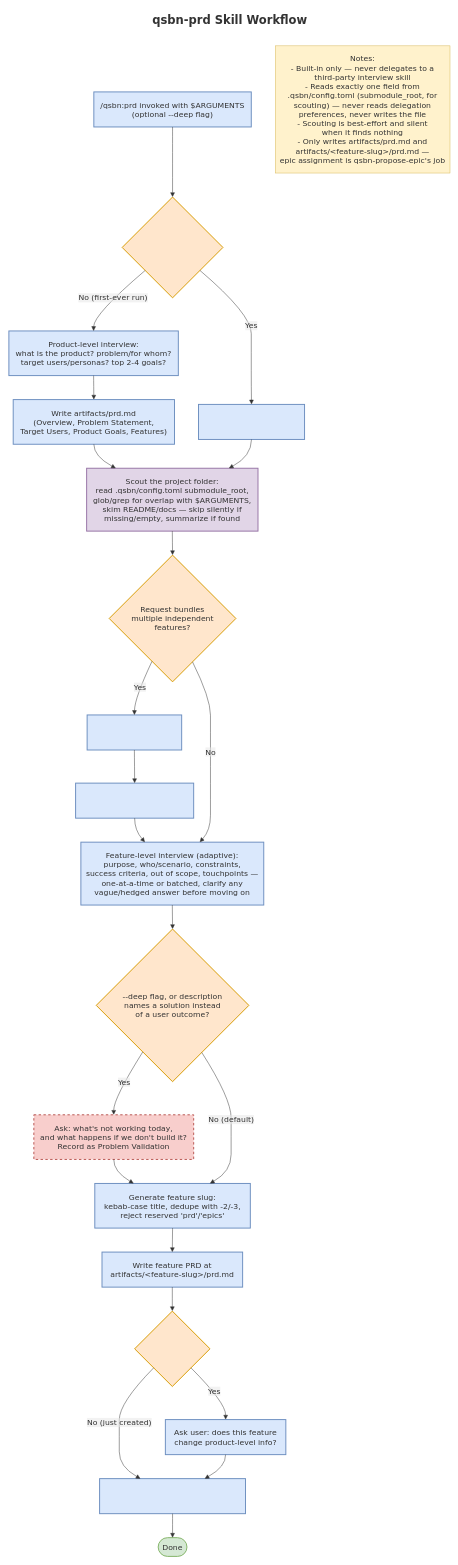
This 458x1565 diagram has some shape labels left out. The shapes that lost their labels are listed below. From the top down, each one's centre as x and y in pixels, then its label:
the point at 172,247: artifacts/prd.md exists?
the point at 251,422: Read artifacts/prd.md as context
the point at 134,732: List proposed split, confirm with user
the point at 134,800: Repeat feature steps once per split-out feature
the point at 172,1348: Product PRD pre-existed?
the point at 172,1496: Append feature link under artifacts/prd.md Features section
